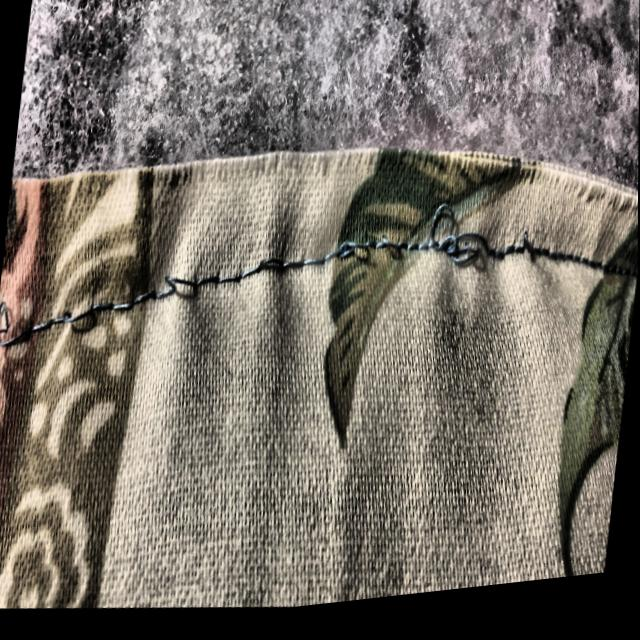Stitch: (432, 210, 489, 269), (160, 255, 205, 313), (60, 293, 98, 347), (258, 244, 293, 290)
